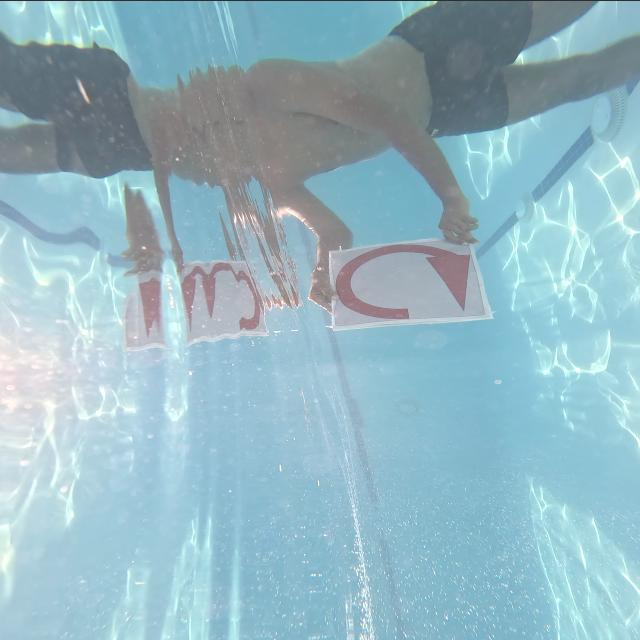red_side: (324, 235, 486, 328)
